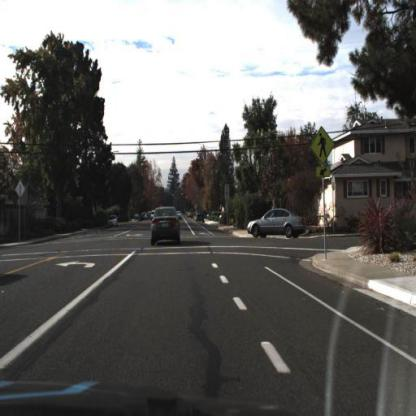car: (247, 206, 309, 241), (150, 207, 183, 247), (196, 210, 207, 228), (106, 215, 119, 229), (196, 211, 206, 224)
